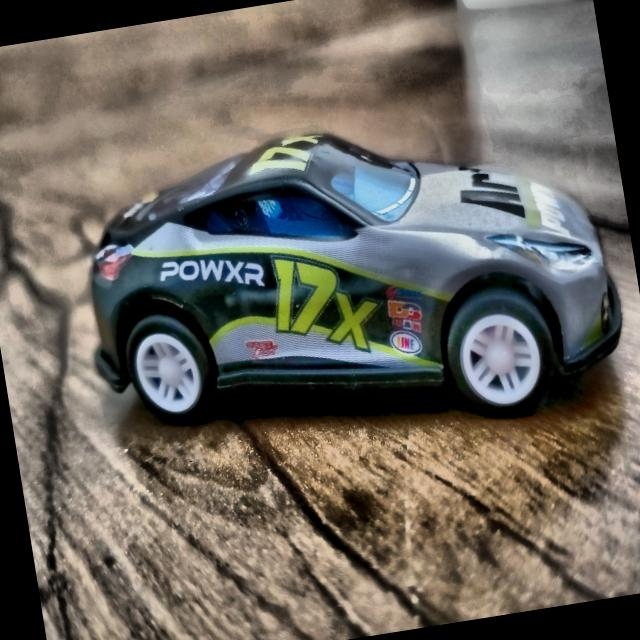Car: (63, 88, 640, 479)
